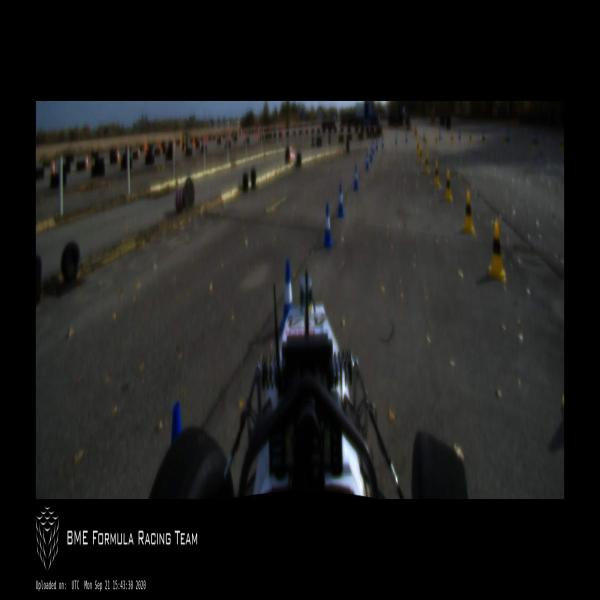blue_cone: (280, 260, 293, 332), (323, 204, 333, 248), (336, 183, 344, 216), (353, 165, 359, 190), (365, 152, 369, 170), (370, 146, 372, 161), (395, 135, 398, 145), (458, 130, 461, 140), (372, 142, 374, 154), (376, 138, 378, 150), (382, 136, 384, 147), (423, 130, 425, 140), (406, 133, 408, 142), (439, 132, 441, 140)
yellow_cone: (487, 219, 506, 282), (462, 191, 475, 233), (444, 169, 453, 202), (434, 161, 441, 187), (425, 152, 430, 175), (560, 136, 564, 153), (419, 148, 423, 164), (532, 135, 535, 148), (505, 135, 508, 147), (417, 138, 419, 153), (469, 134, 472, 144), (483, 135, 486, 145), (451, 136, 454, 144), (425, 136, 427, 146), (436, 136, 438, 146)
